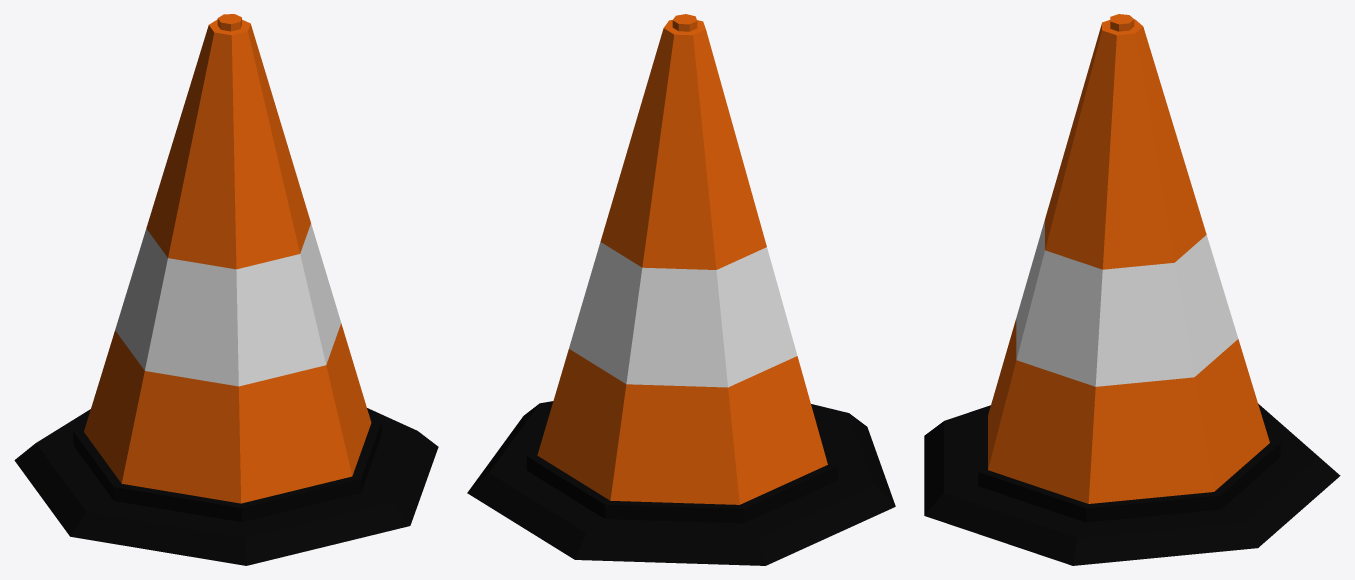
Rendered from low_poly_traffic_cone.glb.
3 renders of one model, left to right at view 1: azimuth 30°, elevation 25°; view 2: azimuth 150°, elevation 25°; view 3: azimuth 270°, elevation 25°, orthographic.
Visible parts, largest first — view 1: Traffic Cone_0, Traffic Cone.001_1, Traffic Cone.002_2; view 2: Traffic Cone_0, Traffic Cone.001_1, Traffic Cone.002_2; view 3: Traffic Cone_0, Traffic Cone.001_1, Traffic Cone.002_2.
Part boxes in pixels (x1,y1,x2,y2): Traffic Cone_0: (84, 14, 371, 503); Traffic Cone.001_1: (14, 408, 438, 565); Traffic Cone.002_2: (115, 223, 340, 386); Traffic Cone_0: (537, 14, 827, 504); Traffic Cone.001_1: (467, 401, 895, 565); Traffic Cone.002_2: (569, 242, 797, 387); Traffic Cone_0: (988, 14, 1269, 503); Traffic Cone.001_1: (924, 403, 1340, 565); Traffic Cone.002_2: (1016, 220, 1238, 386).
Bounding box in the file's own units: 2.17 × 2.56 × 2.11.
